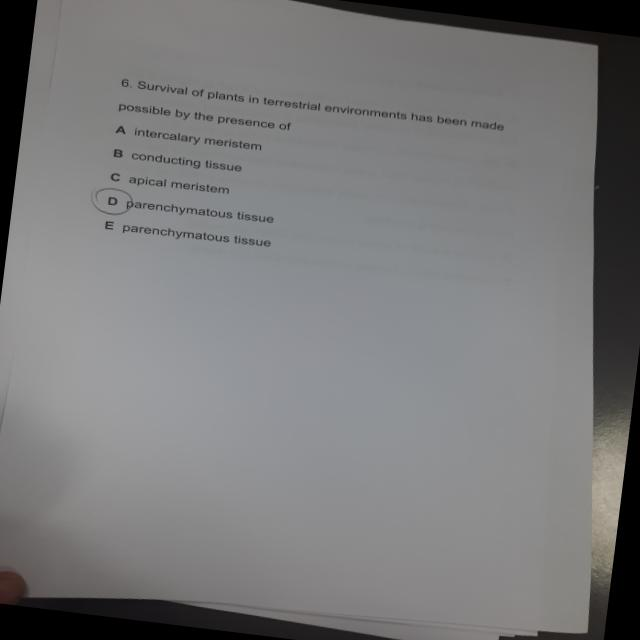D: (87, 186, 140, 221)
